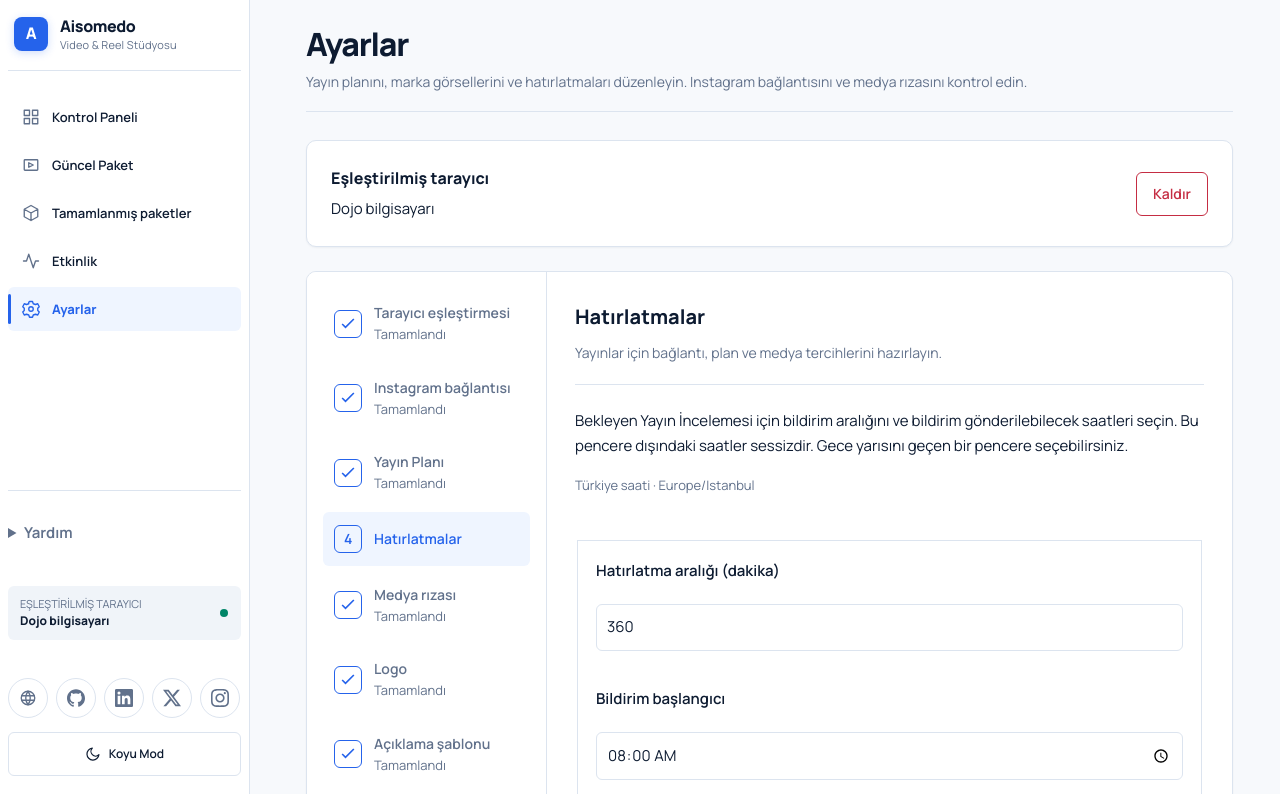
Scenario: does not report another device after saving reminders
Replace the text in the number field labelled "Hatırlatma aralığı (dakika)" with "120" at (890, 627), box [596,604,1183,651]
(page scrolled)
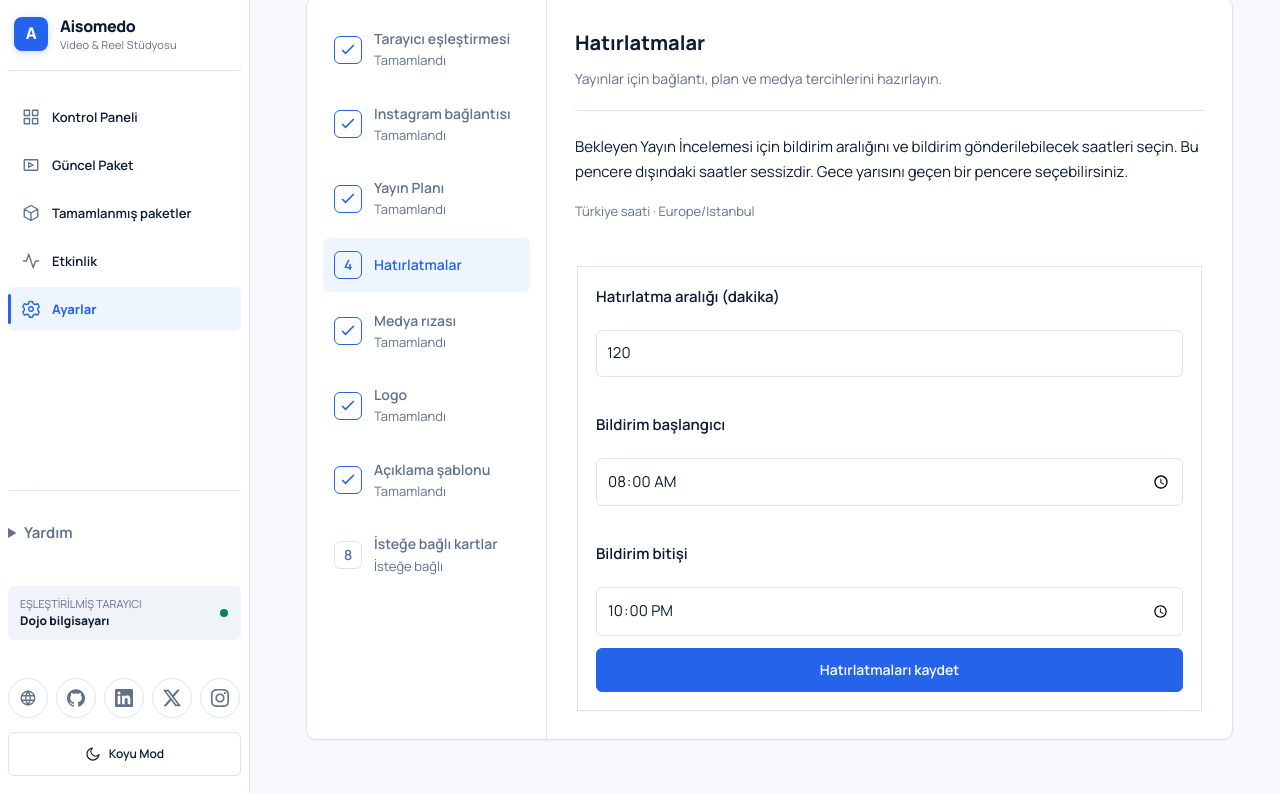
Click the button "Hatırlatmaları kaydet" at (890, 670), box [596,648,1183,692]
Wait 1 ms
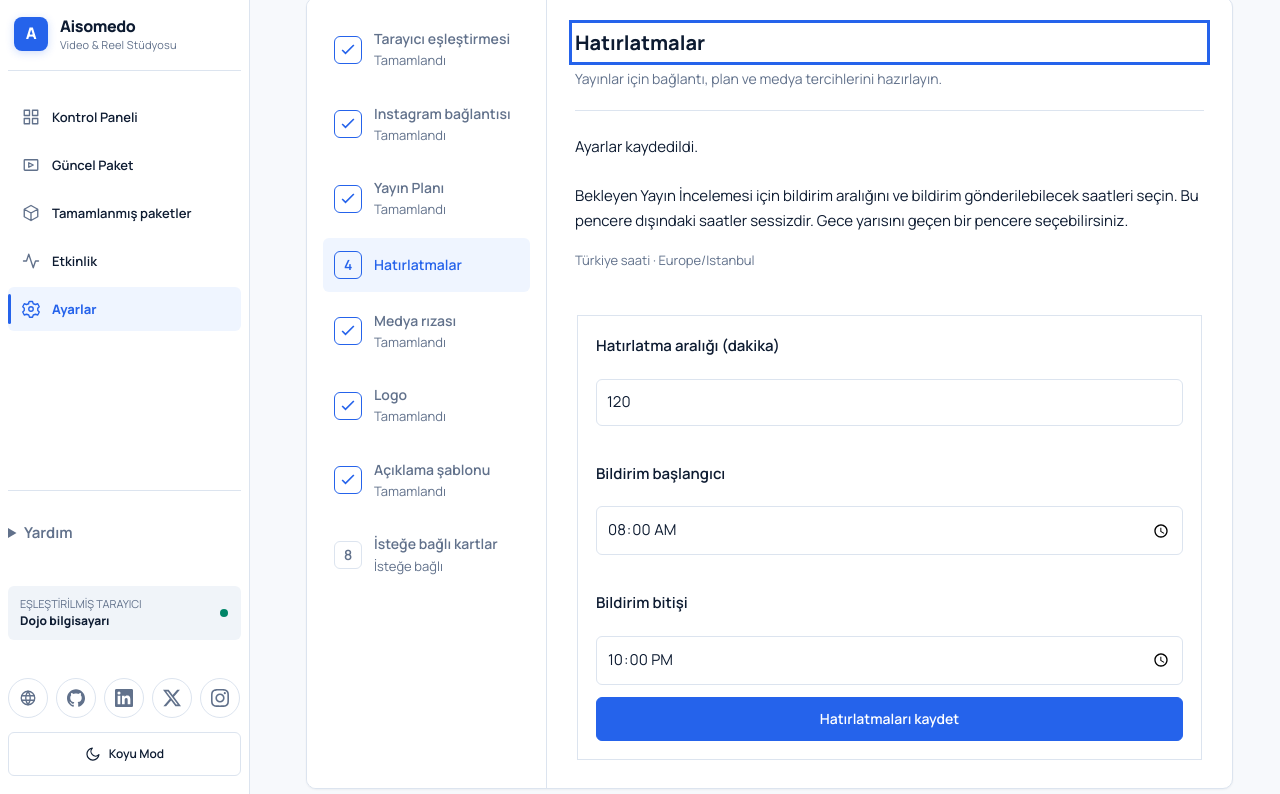
Check: the text "Ayarlar kaydedildi." is shown, box [575,136,698,157]
Replace the text in the number field labelled "Hatırlatma aralığı (dakika)" with "60" at (890, 402), box [596,379,1183,426]
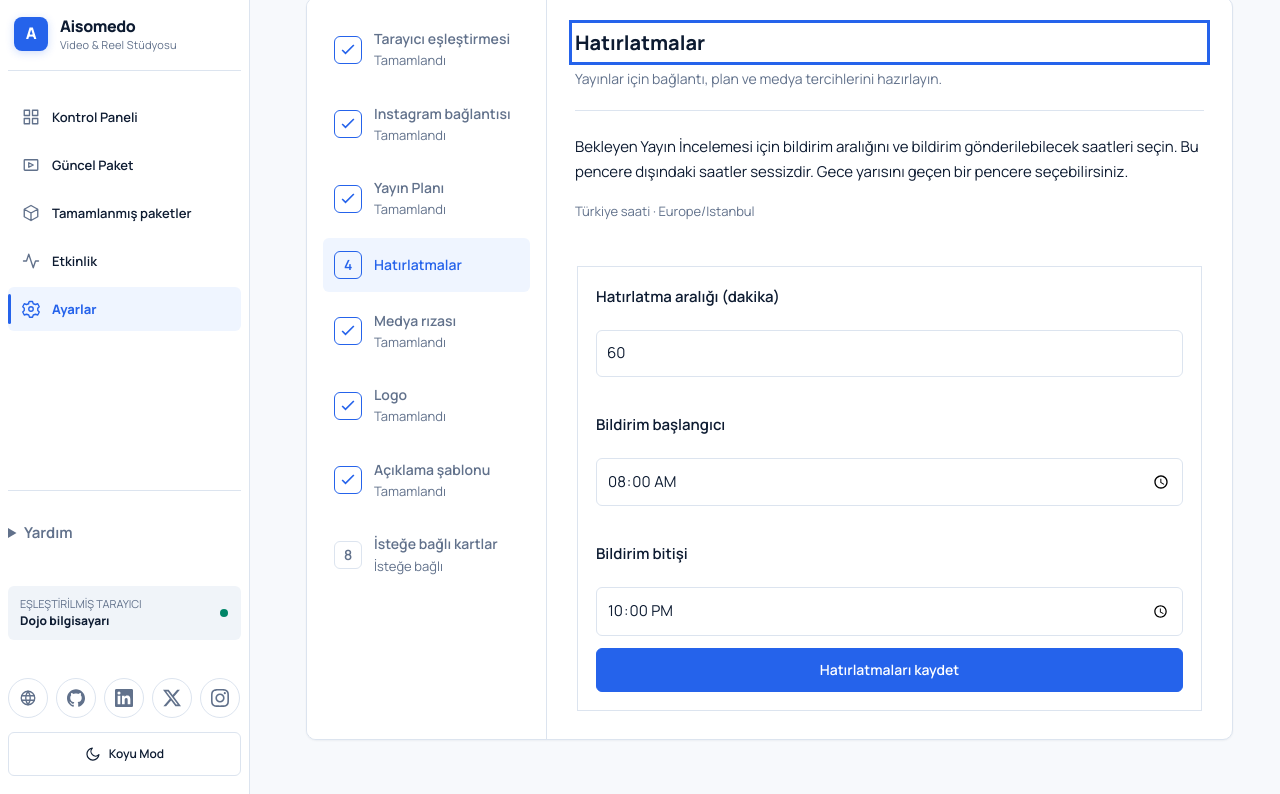
Click the button "Hatırlatmaları kaydet" at (890, 670), box [596,648,1183,692]
Wait 1 ms
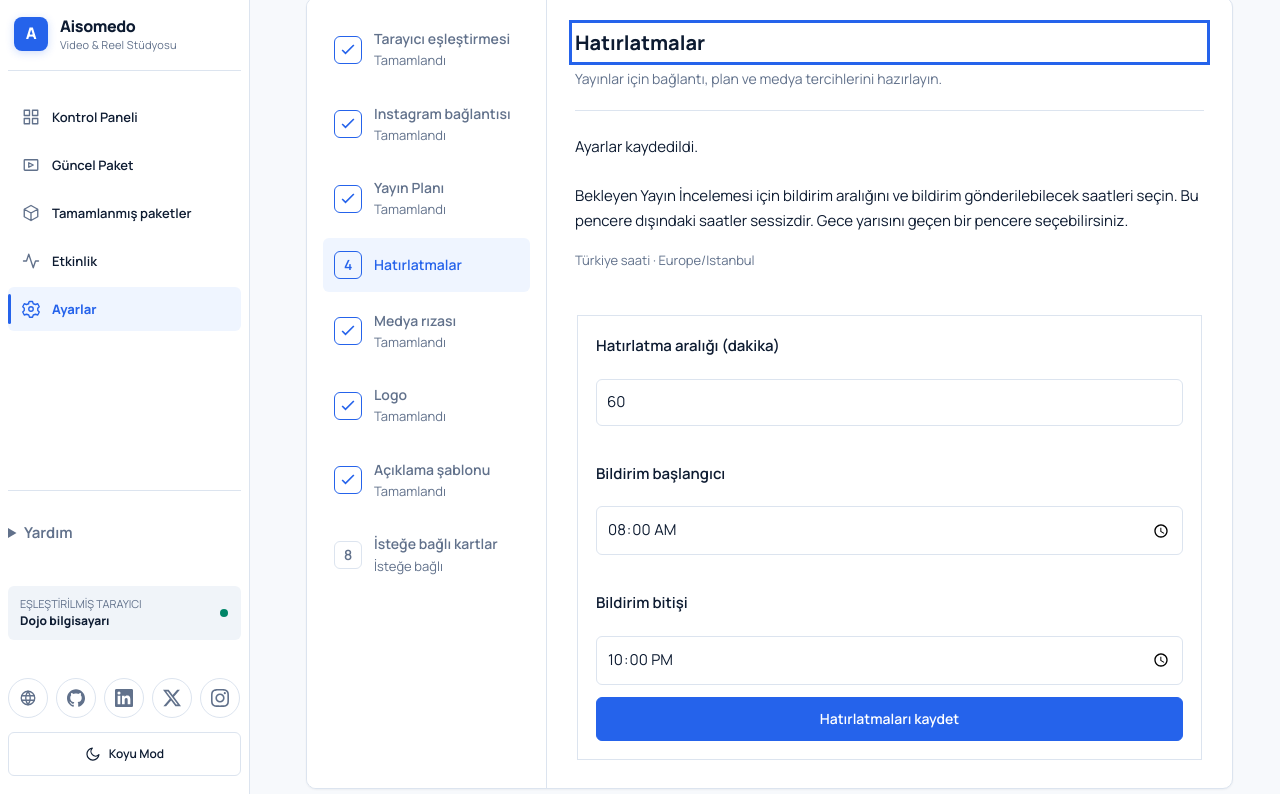
Check: the text "Ayarlar kaydedildi." is shown, box [575,136,698,157]
